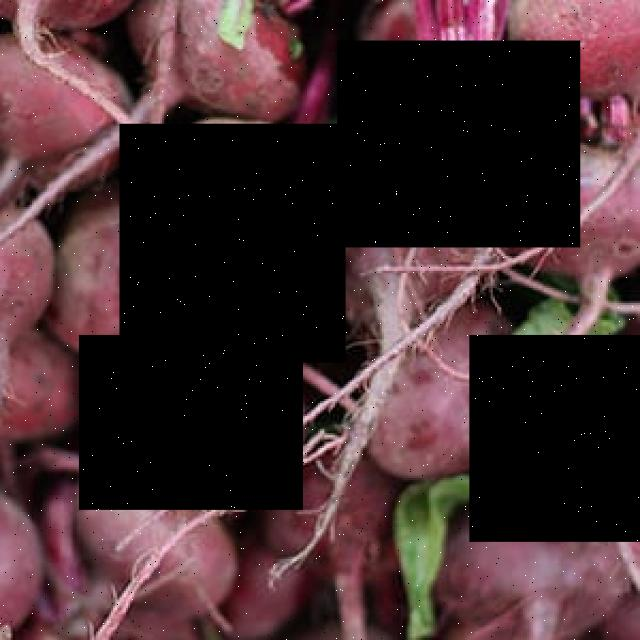Beetroot: (121, 126, 348, 365), (337, 41, 581, 248), (80, 335, 304, 510), (469, 335, 640, 542)
